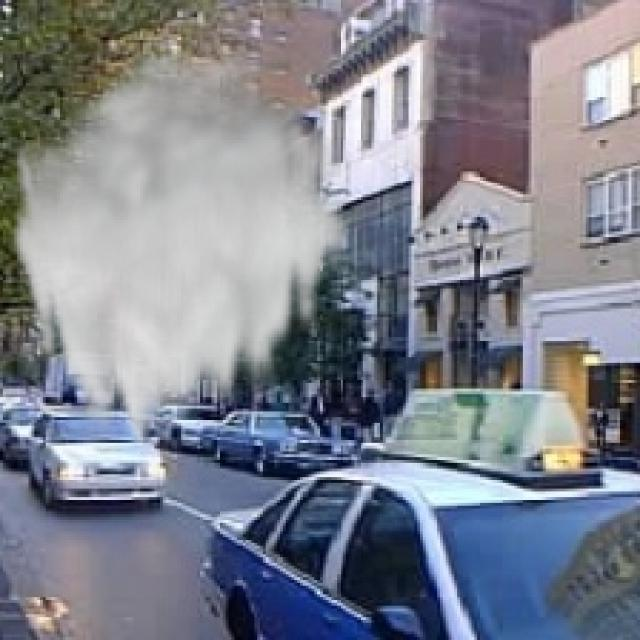smoke: (9, 40, 354, 463)
